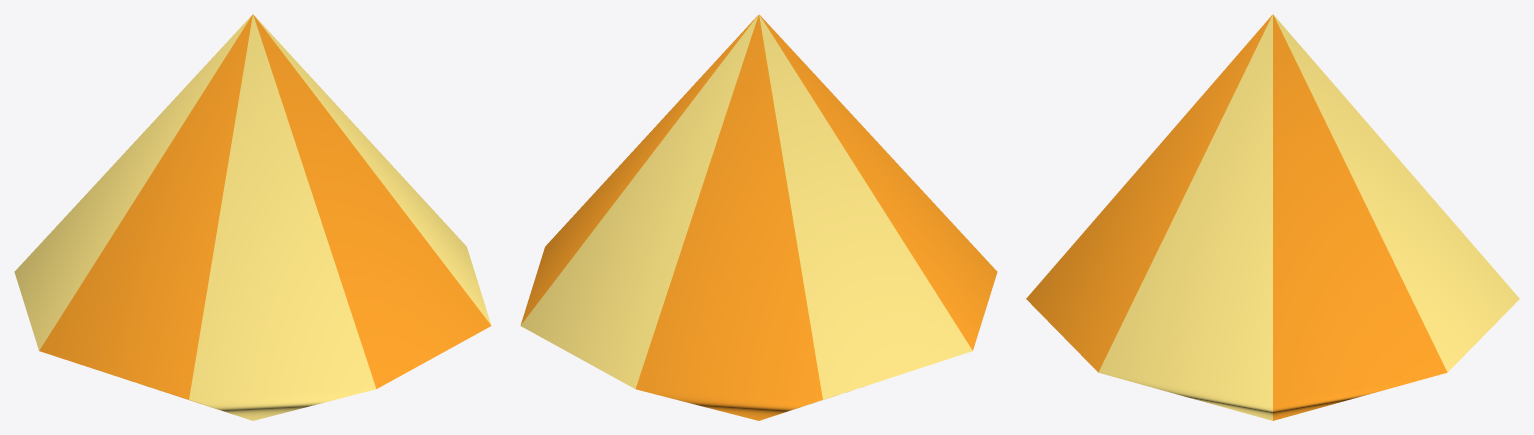
File: suspicion_gem.obj
3 views of the same model, side by side, from view 1: azimuth 30°, elevation 25°; view 2: azimuth 150°, elevation 25°; view 3: azimuth 270°, elevation 25° (orthographic).
Parts seen in each view (by area): view 1: suspicion_gem; view 2: suspicion_gem; view 3: suspicion_gem.
Boxes of the visible parts, box(x1,y1,x2,y2) form: suspicion_gem: box(14, 14, 491, 420); suspicion_gem: box(520, 14, 997, 420); suspicion_gem: box(1026, 14, 1519, 420).
Size of the model in its own units: 0.44 by 0.4 by 0.44.
